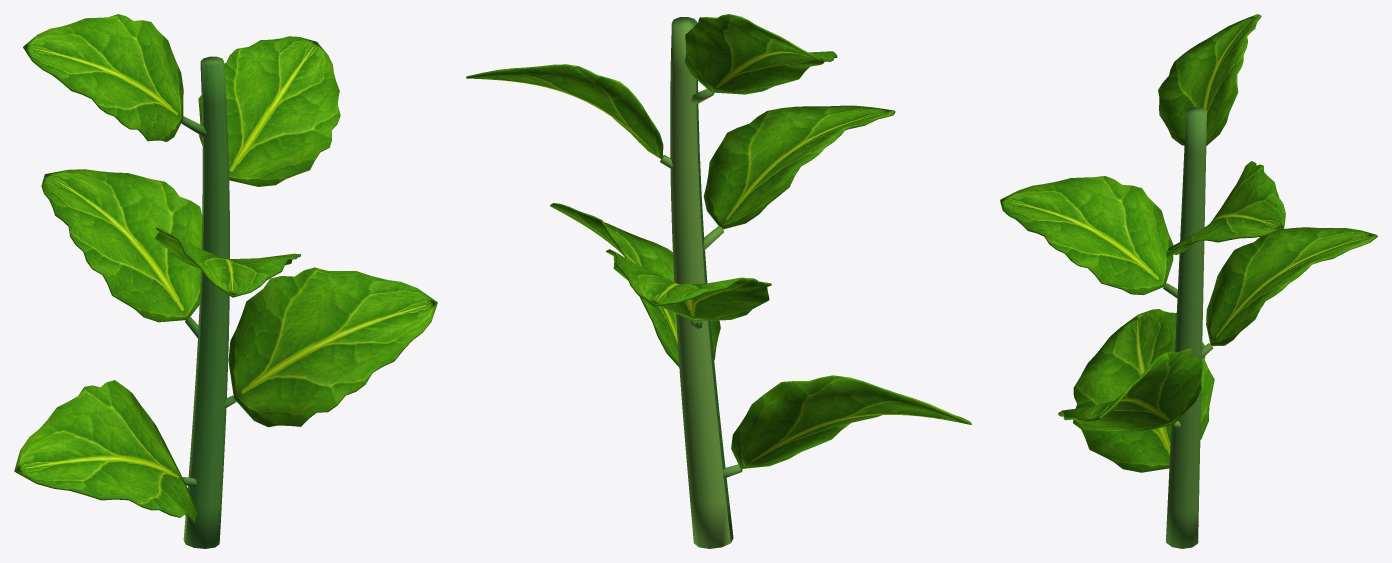
The model's file is NP_Sunflower_Young.fbx.
3 renders of one model, left to right at view 1: azimuth 30°, elevation 25°; view 2: azimuth 150°, elevation 25°; view 3: azimuth 270°, elevation 25°, orthographic. The views are drawn at different scales.
Visible parts, largest first — view 1: NP_Sunflower_Young; view 2: NP_Sunflower_Young; view 3: NP_Sunflower_Young.
Boxes of the visible parts, bbox=[...] form: NP_Sunflower_Young: bbox=[14, 14, 437, 548]; NP_Sunflower_Young: bbox=[466, 14, 971, 548]; NP_Sunflower_Young: bbox=[1000, 14, 1377, 548].
Bounding box in the file's own units: 35.8 × 43.86 × 31.33.
